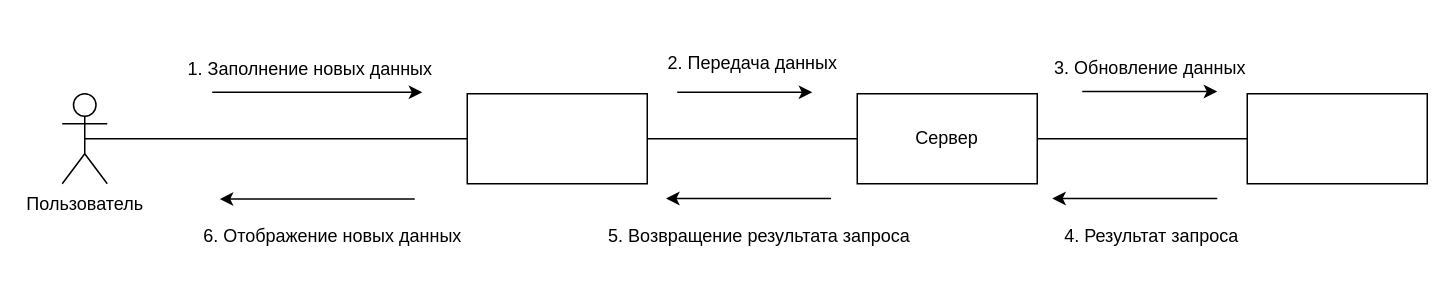
The diagram is 1454 pixels wide and 285 high, and some of its shapes have lost their labels. The shapes that lost their labels are listed below. From the top down, each one's centre as x and y in pixels, then its label:
At [556,138]: "Клиент".
At [1336,138]: "База данных".
